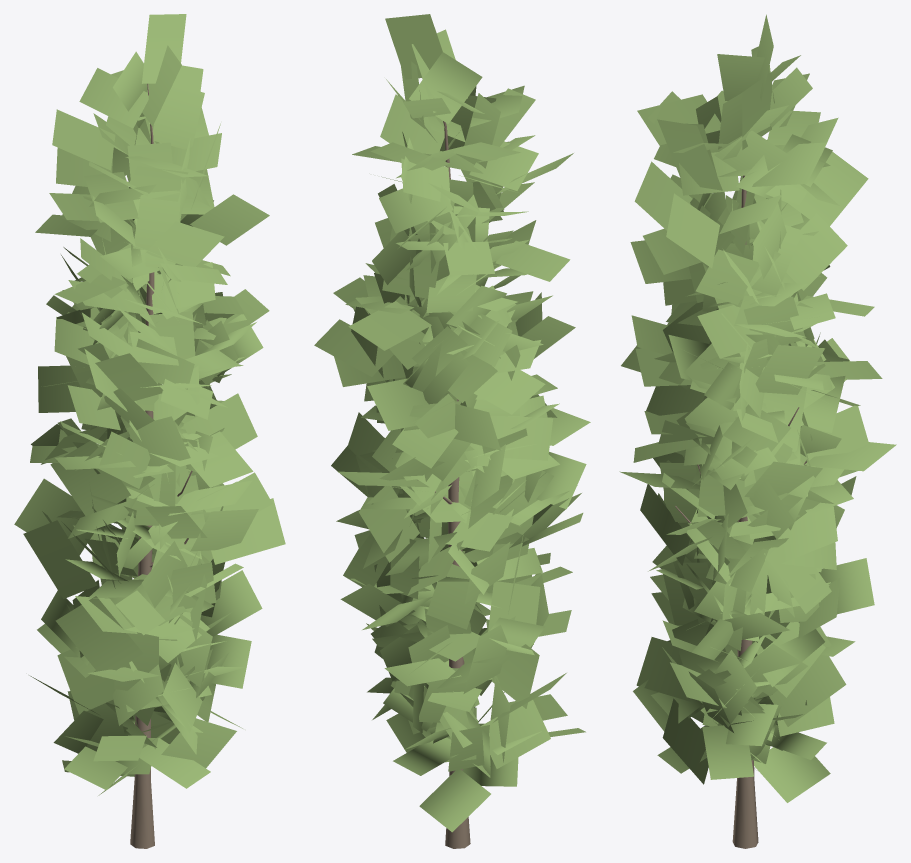
Rendered from Poplar_12_young_lod1.glb.
The picture shows the model from 3 angles, left to right: view 1: azimuth 30°, elevation 25°; view 2: azimuth 150°, elevation 25°; view 3: azimuth 270°, elevation 25°; orthographic projection. The views are drawn at different scales.
Parts seen in each view (by area): view 1: Poplar_12_young_lod1; view 2: Poplar_12_young_lod1; view 3: Poplar_12_young_lod1.
Part boxes in pixels (x1,y1,x2,y2): Poplar_12_young_lod1: (14,14,285,848); Poplar_12_young_lod1: (314,14,590,848); Poplar_12_young_lod1: (619,14,896,848).
Bounding box in the file's own units: 3.38 × 12.05 × 3.62.
